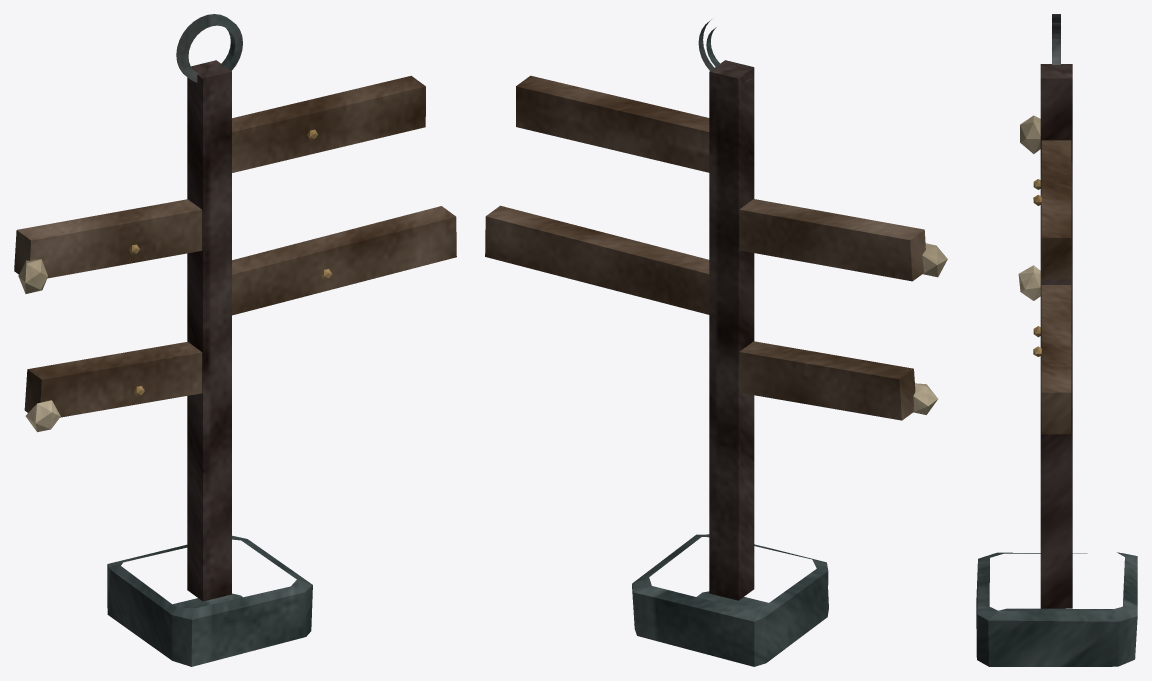
File: 0632_signpost_07.glb
3 views of the same model, side by side, from view 1: azimuth 30°, elevation 25°; view 2: azimuth 150°, elevation 25°; view 3: azimuth 270°, elevation 25° (orthographic).
Parts seen in each view (by area): view 1: wood, wood_dark, stone_dark, iron, bone; view 2: wood, wood_dark, stone_dark, bone; view 3: stone_dark, wood_dark, wood, bone, iron, brass.
Part boxes in pixels (x1,y1,x2,y2): wood: [14, 75, 456, 417]; wood_dark: [187, 60, 231, 601]; stone_dark: [107, 535, 312, 666]; iron: [176, 14, 242, 82]; bone: [18, 259, 60, 432]; wood: [485, 75, 925, 420]; wood_dark: [709, 60, 754, 600]; stone_dark: [632, 534, 828, 666]; bone: [913, 243, 947, 414]; stone_dark: [976, 552, 1137, 666]; wood_dark: [1040, 64, 1072, 608]; wood: [1041, 140, 1071, 434]; bone: [1018, 115, 1040, 300]; iron: [1052, 14, 1060, 64]; brass: [1033, 179, 1041, 356].
Size of the model in its own units: 2.26 by 3 by 0.7084.
Materials: 6 (6 with a texture image).
